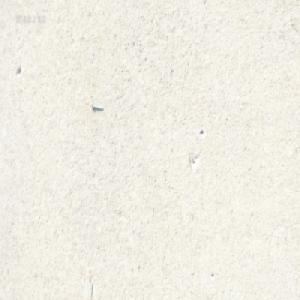Nail: (90, 101, 103, 110)
